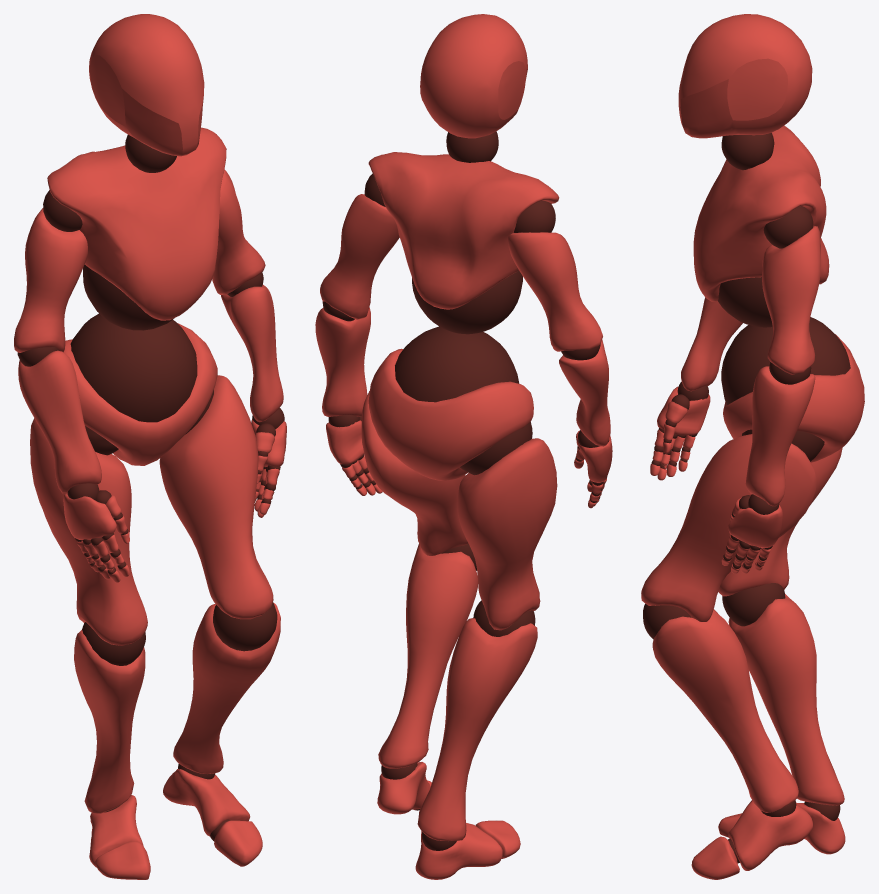
Rendered from female.obj.
The picture shows the model from 3 angles, left to right: view 1: azimuth 30°, elevation 25°; view 2: azimuth 150°, elevation 25°; view 3: azimuth 270°, elevation 25°; orthographic projection. The views are drawn at different scales.
Parts seen in each view (by area): view 1: Beta_Surface, Beta_Joints; view 2: Beta_Surface, Beta_Joints; view 3: Beta_Surface, Beta_Joints.
Part boxes in pixels (left/top/right/bottom): Beta_Surface: left=14, top=14, right=286, bottom=879; Beta_Joints: left=17, top=134, right=284, bottom=841; Beta_Surface: left=315, top=14, right=612, bottom=879; Beta_Joints: left=322, top=131, right=609, bottom=850; Beta_Surface: left=641, top=14, right=864, bottom=879; Beta_Joints: left=643, top=133, right=850, bottom=863.
Bounding box in the file's own units: 0.6004 × 1.78 × 0.4336.
